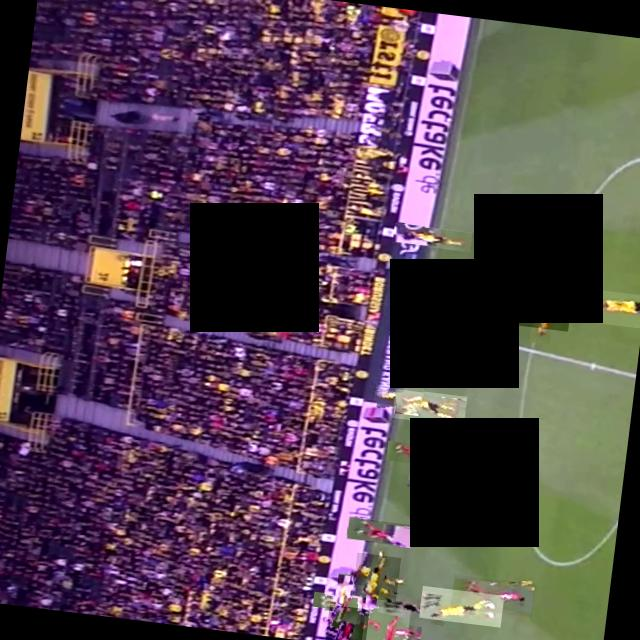ball: (411, 372, 425, 385)
referee: (375, 590, 448, 622)
soccer-player: (513, 269, 574, 330), (450, 573, 536, 616), (418, 585, 504, 627), (392, 387, 467, 426), (436, 292, 512, 325), (580, 287, 640, 327), (352, 552, 401, 600), (396, 428, 443, 478), (392, 222, 472, 250), (346, 516, 414, 546), (321, 580, 364, 623), (360, 604, 410, 640), (325, 603, 369, 640), (374, 381, 424, 410)
